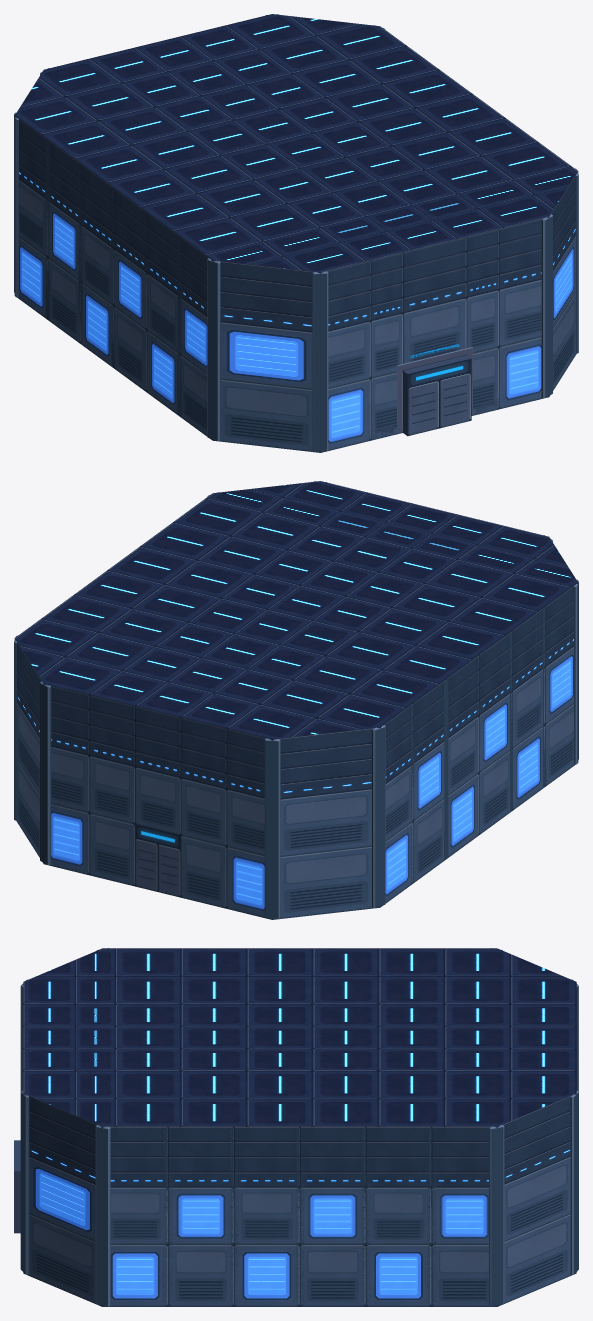
Rendered from CyberArenaEnvironment.fbx.
3 views of the same model, one above another, from view 1: azimuth 30°, elevation 25°; view 2: azimuth 150°, elevation 25°; view 3: azimuth 270°, elevation 25° (orthographic).
Visible parts, largest first — view 1: CyberArenaEnvironment; view 2: CyberArenaEnvironment; view 3: CyberArenaEnvironment.
Boxes of the visible parts, <box> form: CyberArenaEnvironment: <box>14,14,578,452</box>; CyberArenaEnvironment: <box>14,481,578,919</box>; CyberArenaEnvironment: <box>14,948,578,1306</box>.
Size of the model in its own units: 16.18 by 8 by 21.44.
1 material, 1 textured.
